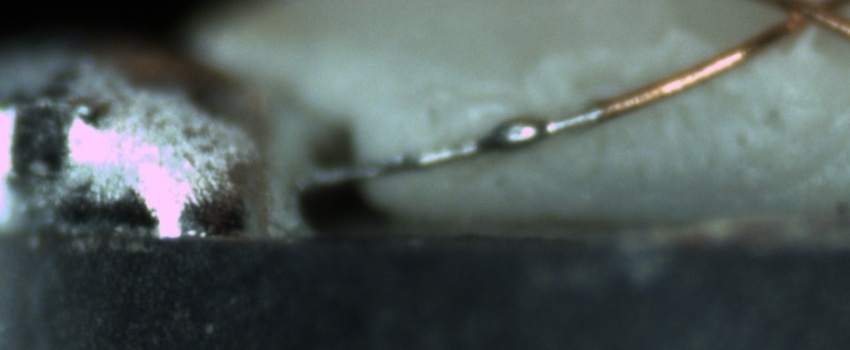CL: (759, 1, 844, 45)
TB: (490, 112, 551, 161)
TS: (302, 101, 601, 190)
TTCW: (303, 83, 672, 191)
